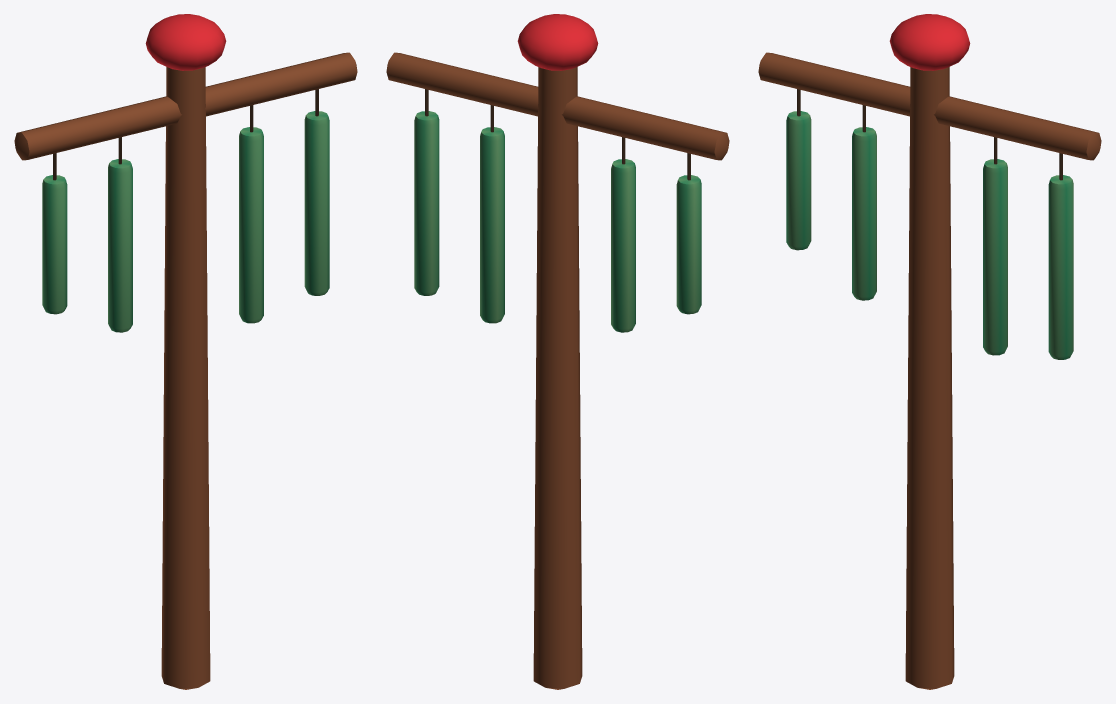
File: chime_post.glb
The picture shows the model from 3 angles, left to right: view 1: azimuth 30°, elevation 25°; view 2: azimuth 150°, elevation 25°; view 3: azimuth 330°, elevation 25°; orthographic projection.
Visible parts, largest first — view 1: Poste, tube_3, tube_4, tube_1, tube_0; view 2: Poste, tube_3, tube_4, tube_1, tube_0; view 3: Poste, tube_3, tube_4, tube_1, tube_0.
Part boxes in pixels (bbox=[...]): Poste: bbox=[14, 14, 357, 689]; tube_3: bbox=[239, 105, 263, 323]; tube_4: bbox=[304, 89, 329, 295]; tube_1: bbox=[108, 137, 132, 332]; tube_0: bbox=[42, 153, 67, 314]; Poste: bbox=[386, 14, 729, 689]; tube_3: bbox=[480, 105, 504, 323]; tube_4: bbox=[414, 89, 439, 295]; tube_1: bbox=[611, 137, 635, 332]; tube_0: bbox=[676, 153, 701, 314]; Poste: bbox=[758, 14, 1101, 689]; tube_3: bbox=[983, 137, 1007, 355]; tube_4: bbox=[1048, 153, 1073, 359]; tube_1: bbox=[852, 105, 876, 300]; tube_0: bbox=[786, 89, 811, 250].
Size of the model in its own units: 1.56 by 2.93 by 0.312.
